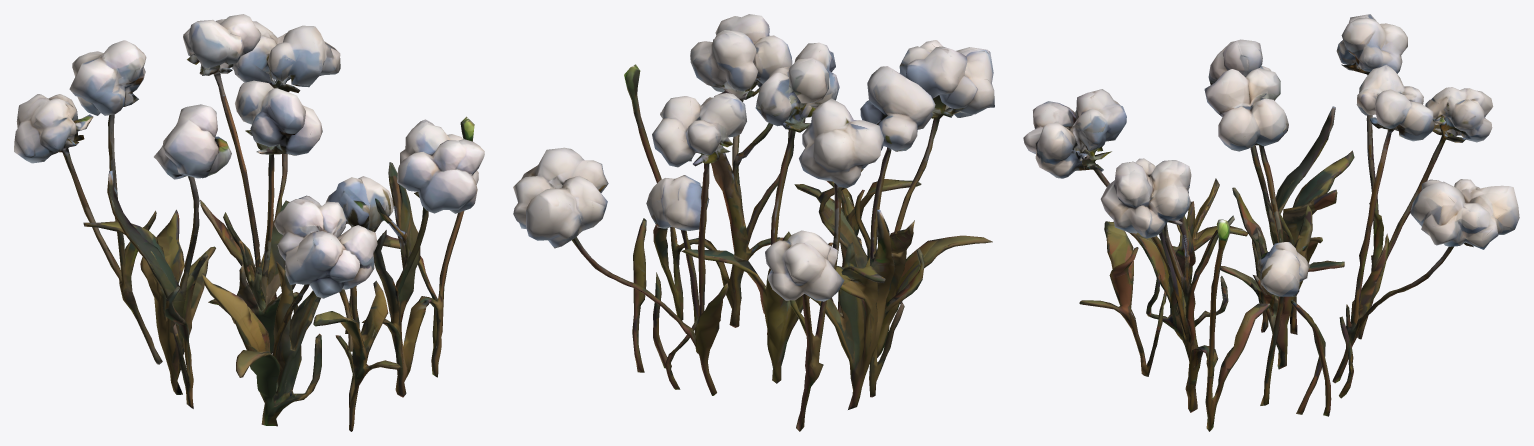
Rendered from cotton.glb.
3 renders of one model, left to right at view 1: azimuth 30°, elevation 25°; view 2: azimuth 150°, elevation 25°; view 3: azimuth 270°, elevation 25°, orthographic. The views are drawn at different scales.
Size of the model in its own units: 1.45 by 1.39 by 2.01.
1 material, 1 textured.
